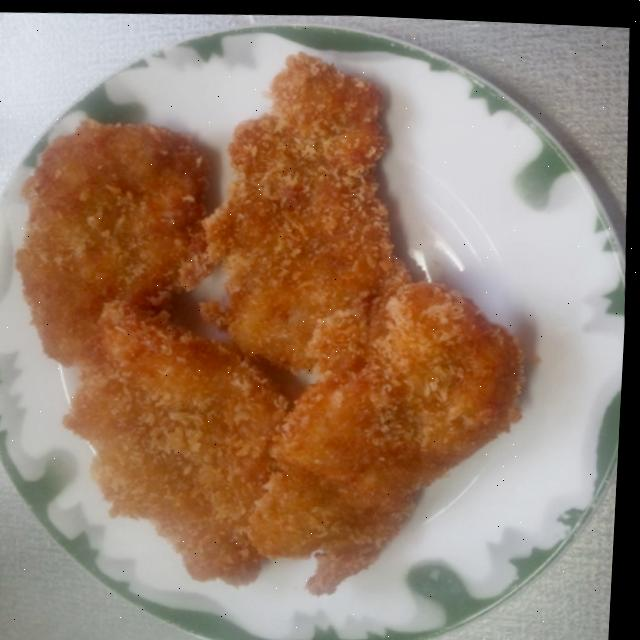鸡肉料理 含炸鸡: (0, 7, 634, 640)
